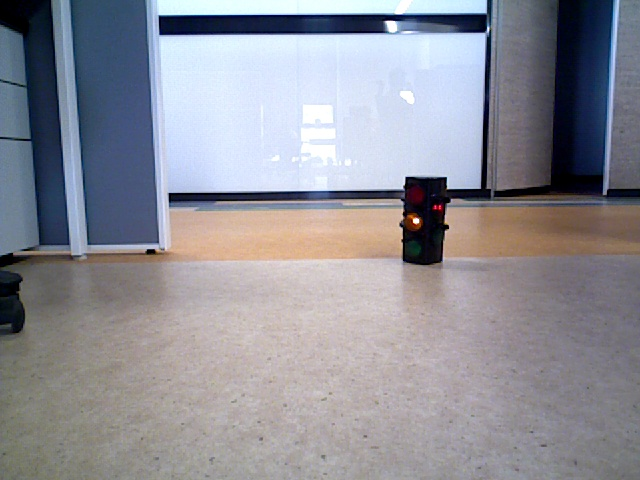yellow: (406, 176, 444, 261)
